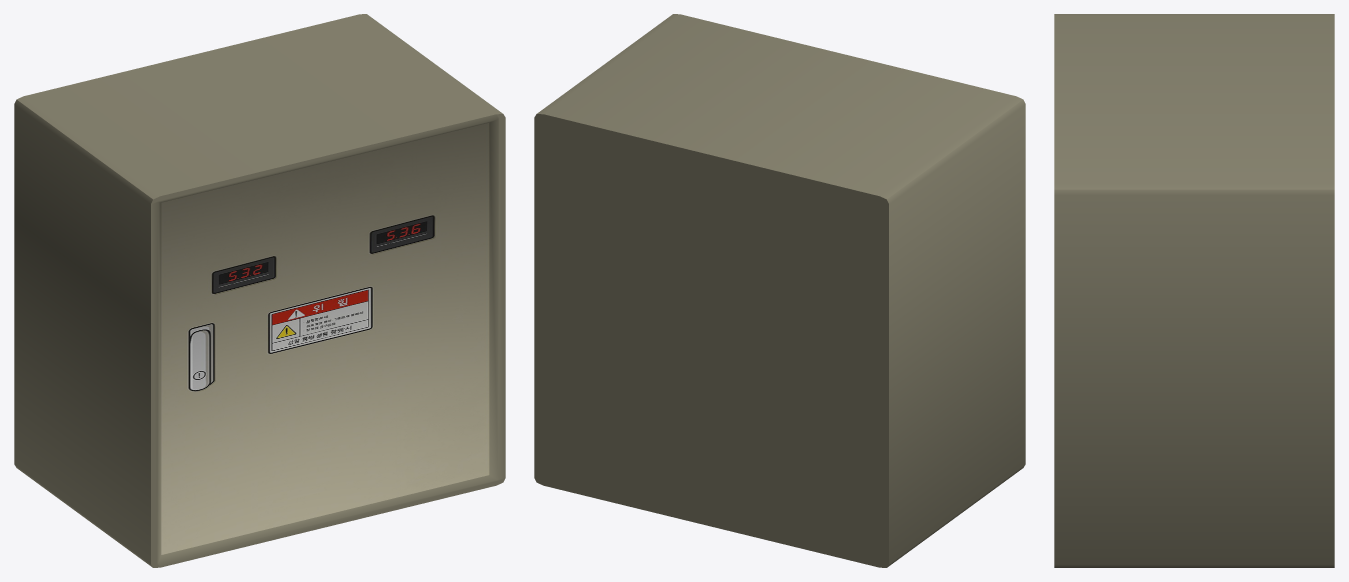
3 views of the same model, side by side, from view 1: azimuth 30°, elevation 25°; view 2: azimuth 150°, elevation 25°; view 3: azimuth 270°, elevation 25° (orthographic). The views are drawn at different scales.
Visible parts, largest first — view 1: RM1-WH03W030D020; view 2: RM1-WH03W030D020; view 3: RM1-WH03W030D020.
Boxes of the visible parts, left/top/right/bottom form: RM1-WH03W030D020: left=14, top=14, right=505, bottom=567; RM1-WH03W030D020: left=534, top=14, right=1025, bottom=567; RM1-WH03W030D020: left=1054, top=14, right=1334, bottom=567.
Bounding box in the file's own units: 0.3 × 0.3 × 0.2.
Materials: 2 (1 with a texture image).
